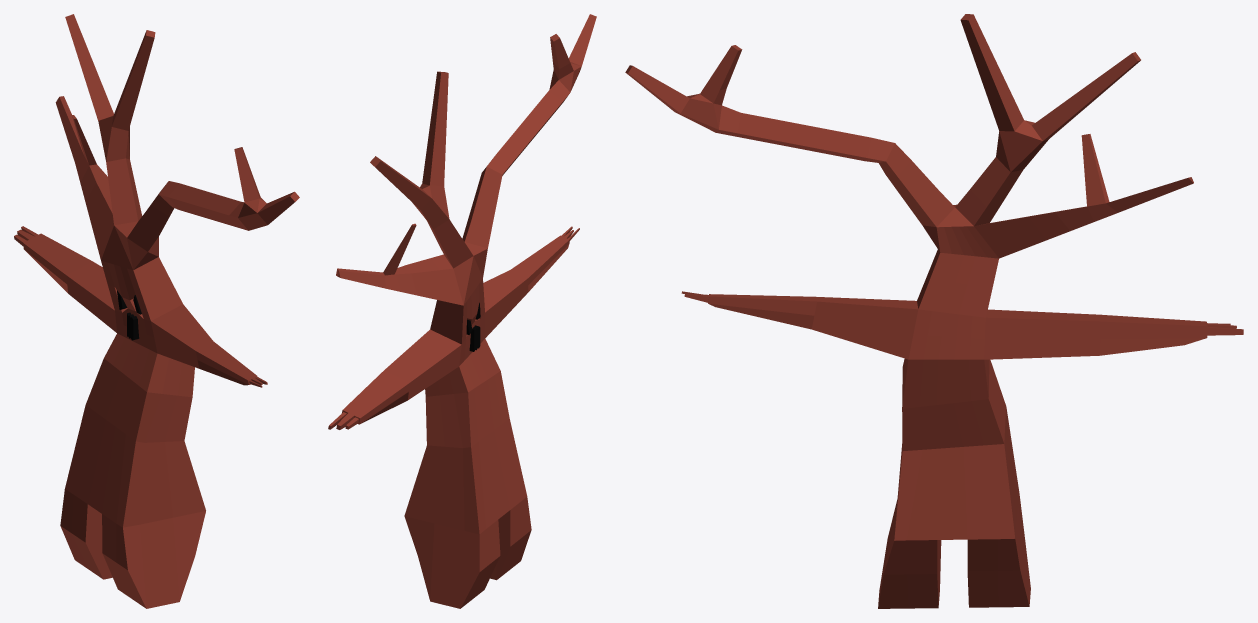
The model's file is TreeBoss Tpose.fbx.
The picture shows the model from 3 angles, left to right: view 1: azimuth 30°, elevation 25°; view 2: azimuth 150°, elevation 25°; view 3: azimuth 270°, elevation 25°; orthographic projection. The views are drawn at different scales.
Parts seen in each view (by area): view 1: Cube; view 2: Cube; view 3: Cube.
Part boxes in pixels (x1,y1,x2,y2): Cube: (14, 14, 299, 608); Cube: (328, 14, 596, 608); Cube: (625, 14, 1243, 608).
Size of the model in its own units: 112 by 657 by 613.
